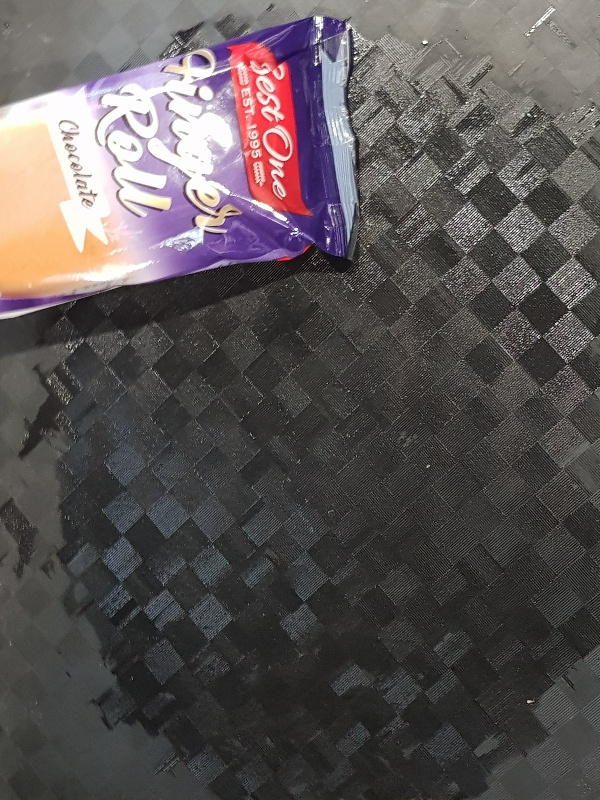Tinges Roll Chocolate: (1, 14, 357, 320)
